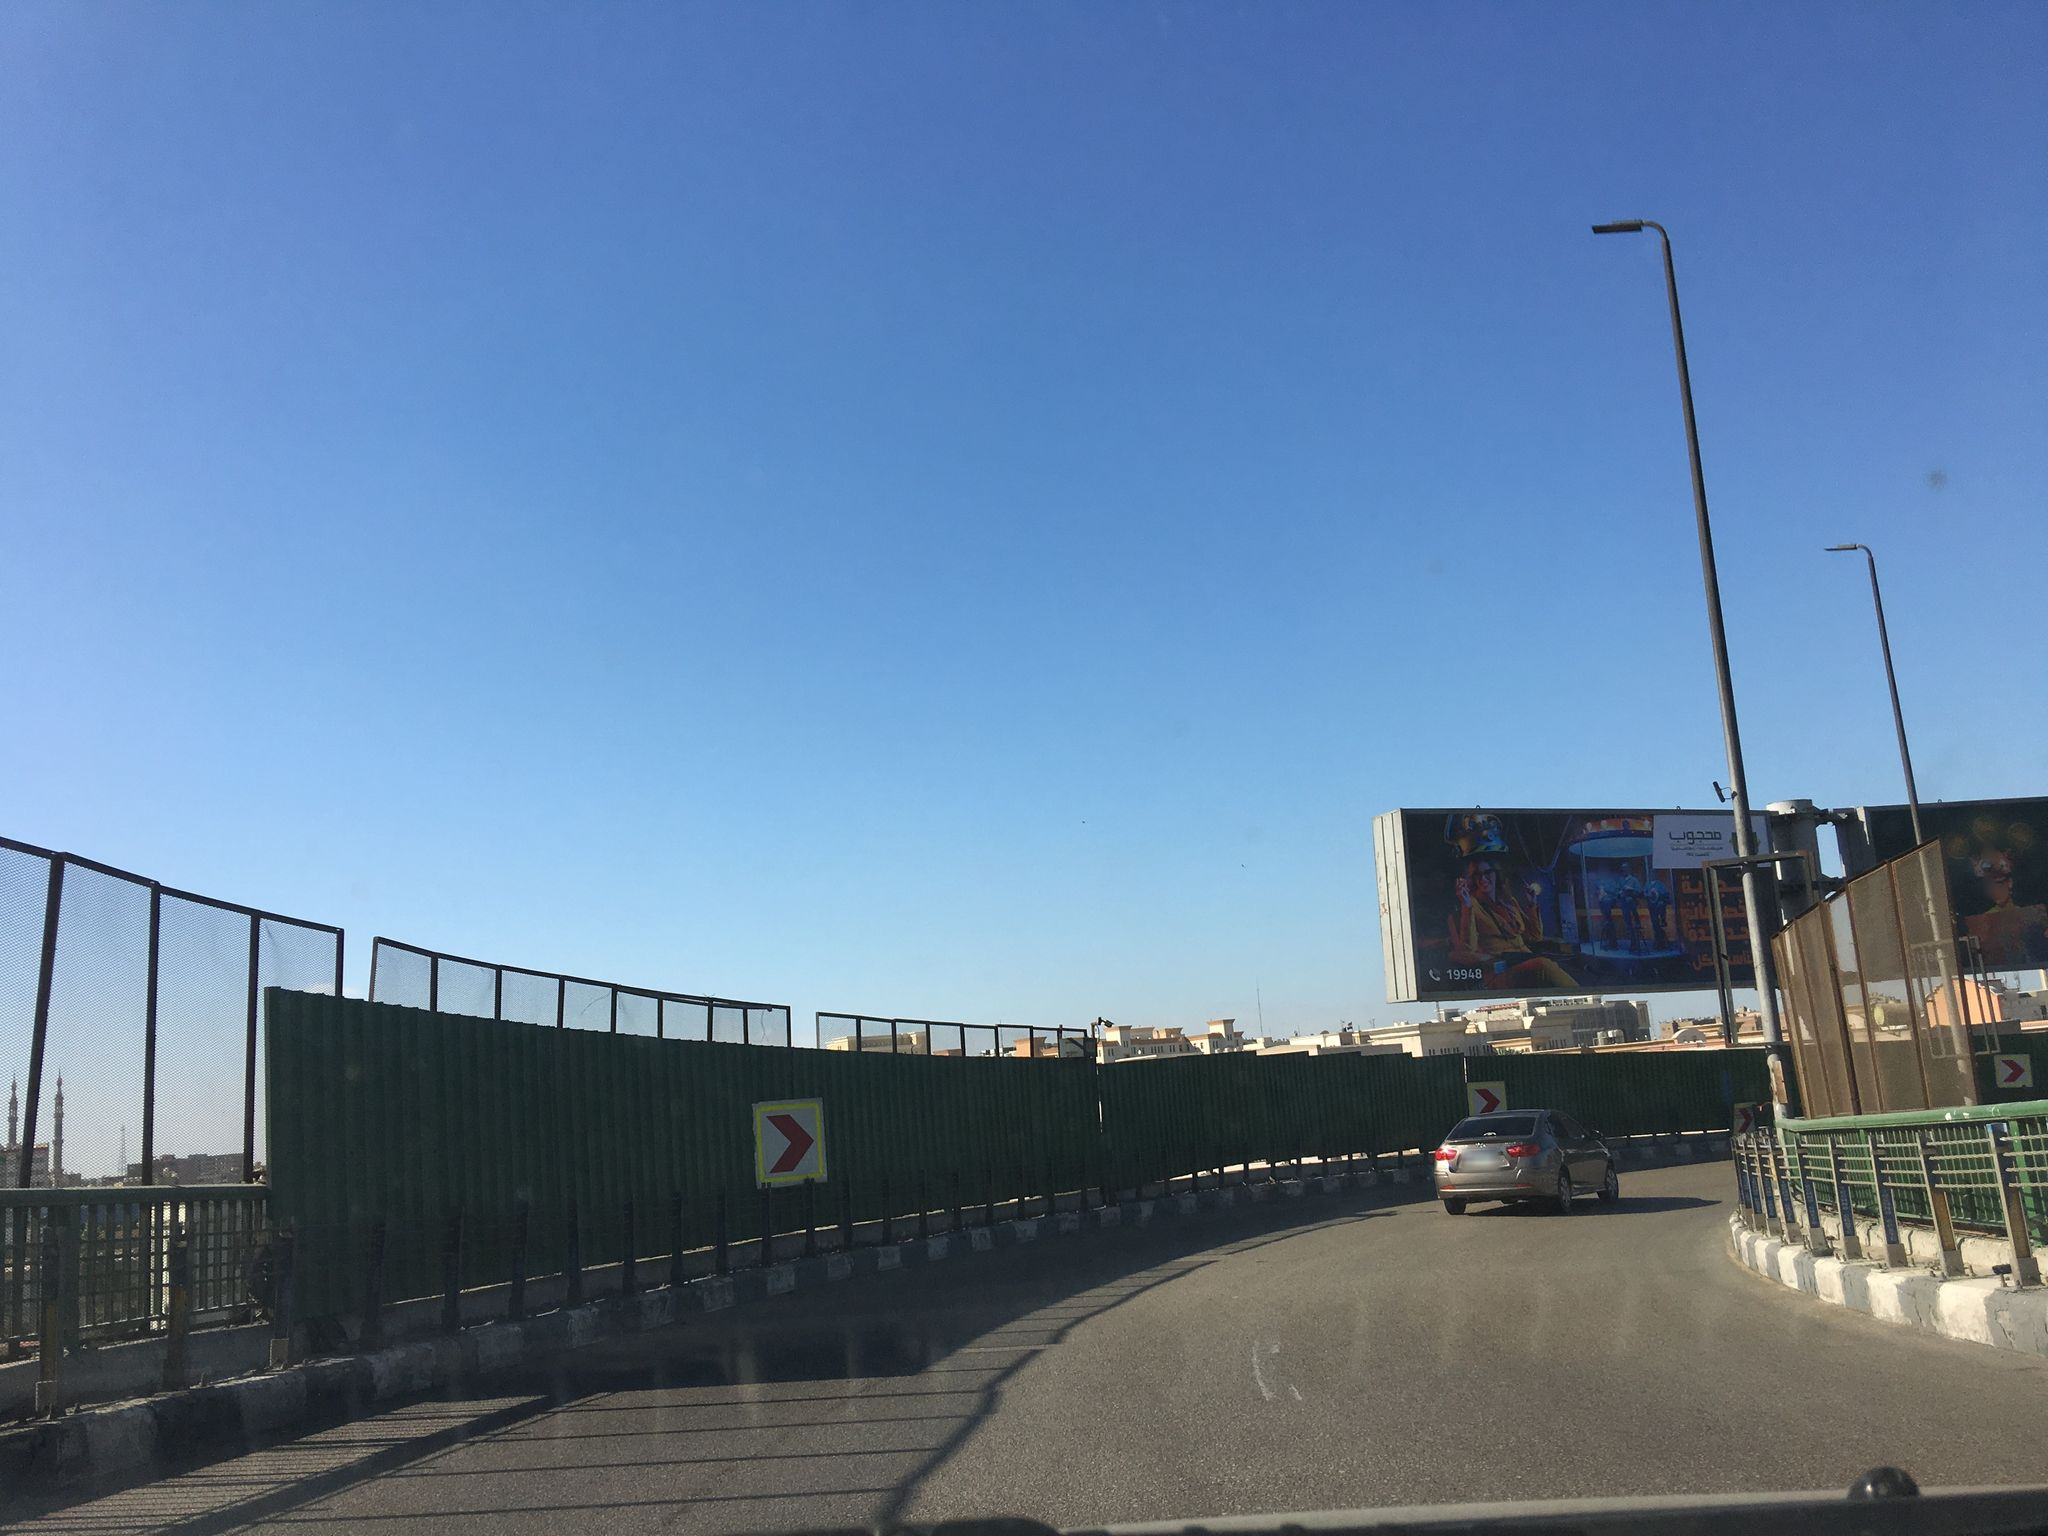car: (1430, 1108, 1619, 1212)
